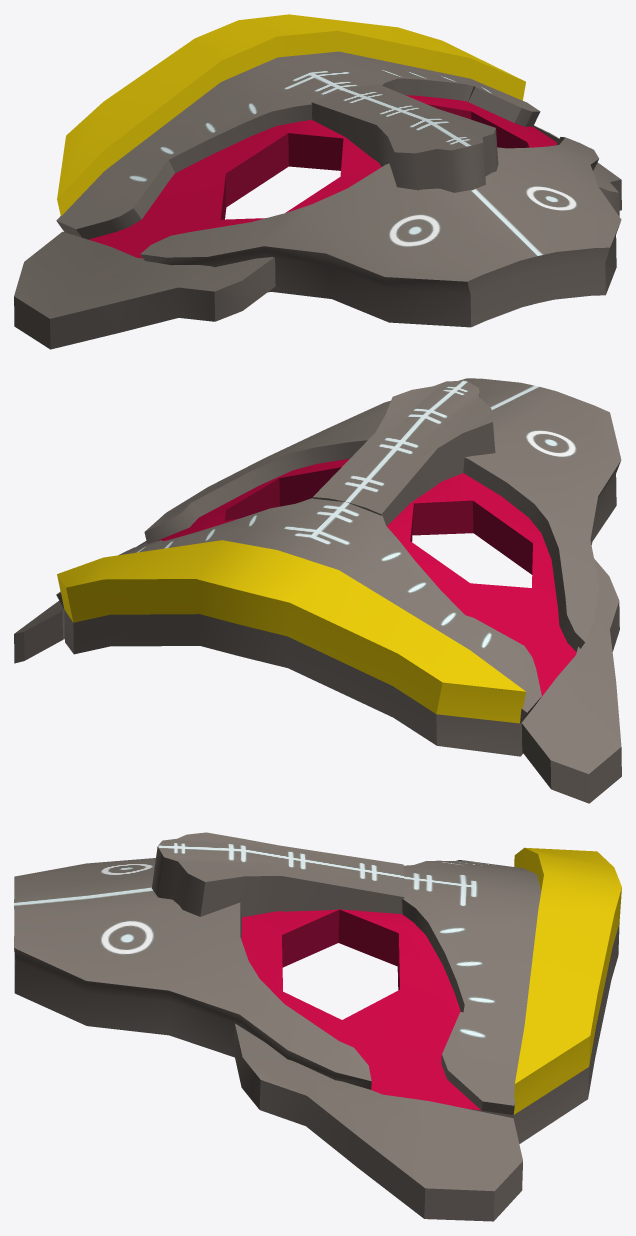
Rendered from MarcaraNova.fbx.
3 renders of one model, top to bottom at view 1: azimuth 30°, elevation 25°; view 2: azimuth 150°, elevation 25°; view 3: azimuth 270°, elevation 25°, orthographic.
Parts seen in each view (by area): view 1: polySurface3; view 2: polySurface3; view 3: polySurface3.
Boxes of the visible parts, x1,y1,x2,y2 form: polySurface3: (14,14,621,349); polySurface3: (14,378,621,803); polySurface3: (14,832,621,1221).
Size of the model in its own units: 6.27 by 2.41 by 5.67.
